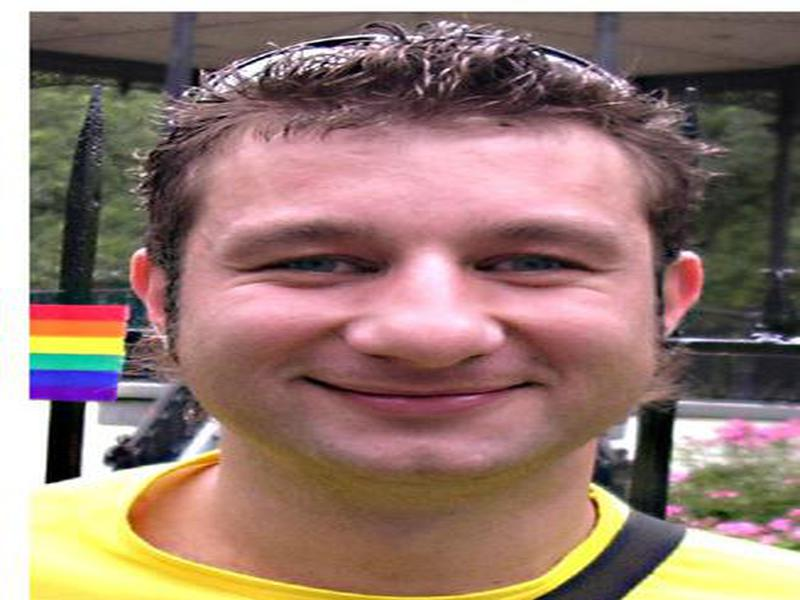without_mask: (180, 138, 666, 484)
